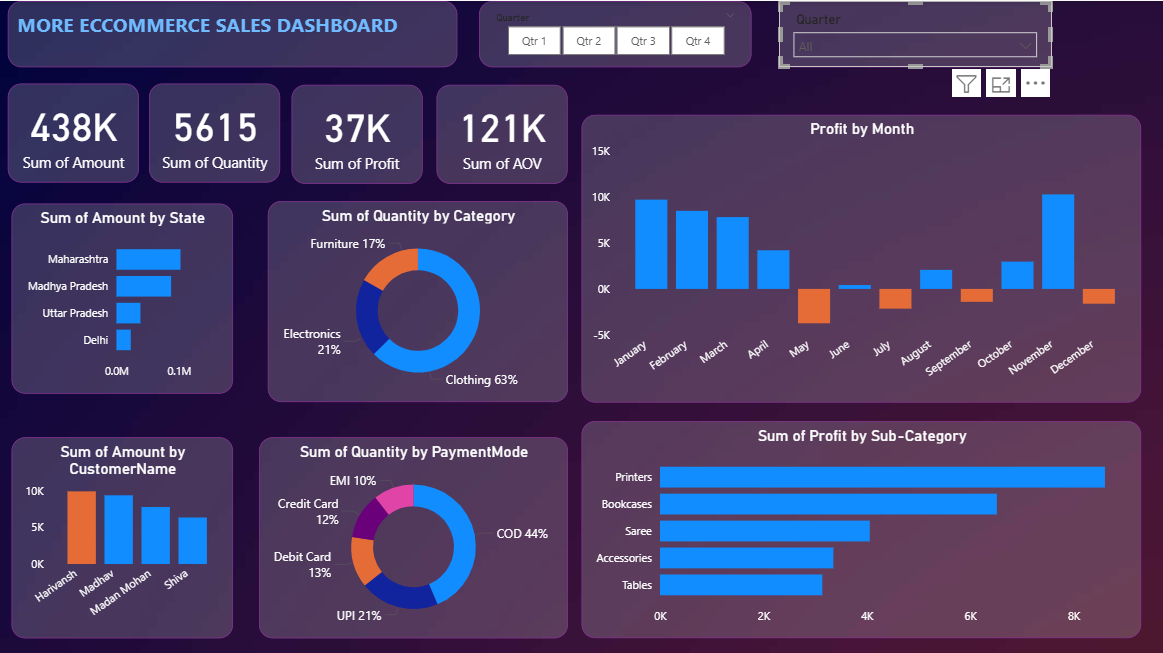

This screenshot's page, from the dashboard's own definition file:
{"tool":"powerbi","page":{"name":"Page 1","canvas":[1280,720],"ordinal":0},"visuals":[{"type":"textbox","box":[9.6,0,494,72.7],"z":0},{"type":"columnChart","title":"Profit by Month","fields":{"Y":["Details.Profit"],"Category":["Orders.Order Date.Variation.Date Hierarchy.Month"]},"box":[639.5,124.9,614.8,315.6],"z":1000},{"type":"barChart","fields":{"Category":["Details.Sub-Category"],"Y":["Details.Profit"]},"box":[639.5,461.1,614.8,238.8],"z":1001},{"type":"donutChart","fields":{"Category":["Details.Category"],"Y":["Details.Quantity"]},"box":[295,219.6,329.3,220.9],"z":1002},{"type":"donutChart","fields":{"Y":["Details.Quantity"],"Category":["Details.PaymentMode"]},"box":[285.4,478.9,338.9,220.9],"z":1003},{"type":"card","fields":{"Values":["Details.Amount"]},"box":[9.6,90.6,144.1,108.4],"z":1004},{"type":"card","fields":{"Values":["Details.Quantity"]},"box":[164.7,90.6,144.1,108.4],"z":1005},{"type":"card","fields":{"Values":["Details.Profit"]},"box":[321.1,91.9,144.1,108.4],"z":1006},{"type":"card","fields":{"Values":["Details.AOV"]},"box":[480.3,91.9,144.1,108.4],"z":1007},{"type":"barChart","fields":{"Category":["Orders.State"],"Y":["Details.Amount"]},"box":[13.7,222.3,242.9,208.6],"z":1008},{"type":"columnChart","fields":{"Category":["Orders.CustomerName"],"Y":["Details.Amount"]},"box":[13.7,478.9,242.9,220.9],"z":1009},{"type":"slicer","fields":{"Values":["Orders.Order Date.Variation.Date Hierarchy.Quarter"]},"box":[526.9,0,299.1,72.7],"z":1010},{"type":"slicer","fields":{"Values":["Orders.Order Date.Variation.Date Hierarchy.Quarter"]},"box":[856.3,0,299.1,72.7],"z":1011}]}

Visuals, with their boxes in screenshot pixels (x1, y1, x2, y2), scaled from the page's 1280x720 canvas onto the 1163x653 screenshot:
textbox: <box>9,0,458,66</box>
"Profit by Month" columnChart: <box>581,113,1140,400</box>
barChart - Details.Sub-Category x Details.Profit: <box>581,418,1140,635</box>
donutChart - Details.Category x Details.Quantity: <box>268,199,567,400</box>
donutChart - Details.Quantity x Details.PaymentMode: <box>259,434,567,635</box>
card - Details.Amount: <box>9,82,140,180</box>
card - Details.Quantity: <box>150,82,281,180</box>
card - Details.Profit: <box>292,83,423,182</box>
card - Details.AOV: <box>436,83,567,182</box>
barChart - Orders.State x Details.Amount: <box>12,202,233,391</box>
columnChart - Orders.CustomerName x Details.Amount: <box>12,434,233,635</box>
slicer - Orders.Order Date.Variation.Date Hierarchy.Quarter: <box>479,0,750,66</box>
slicer - Orders.Order Date.Variation.Date Hierarchy.Quarter: <box>778,0,1050,66</box>
